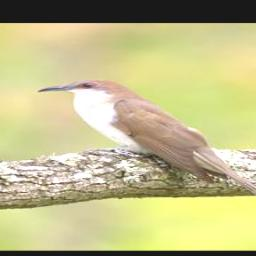Cuckoo: (35, 77, 256, 221)
